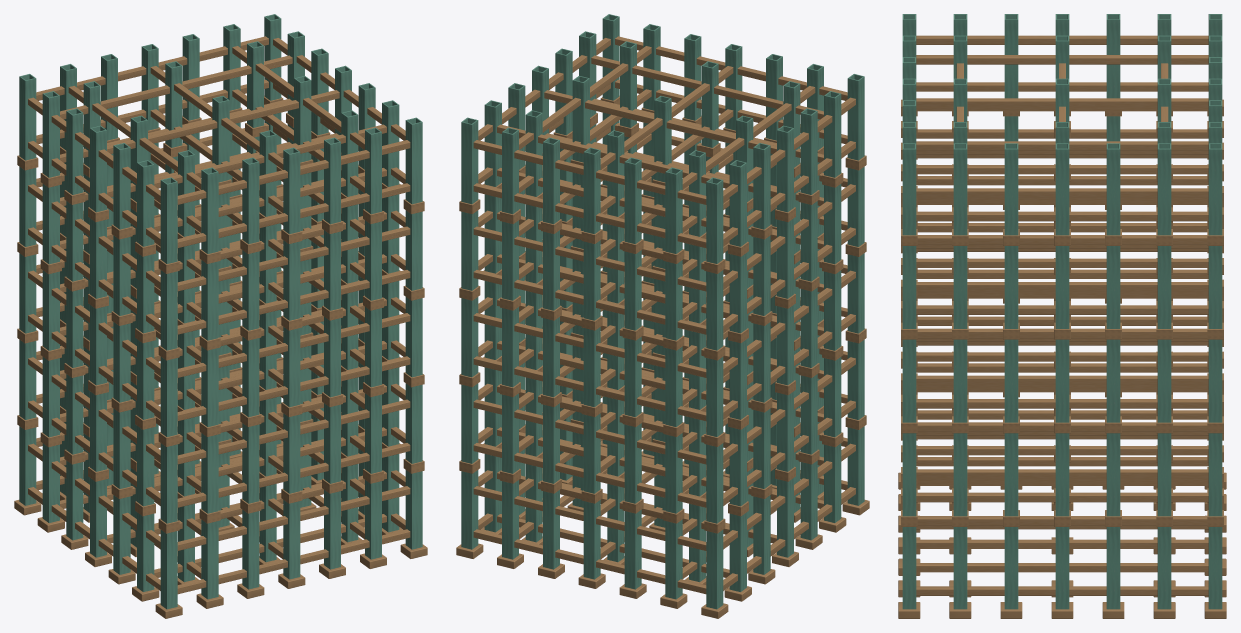
The picture shows the model from 3 angles, left to right: view 1: azimuth 30°, elevation 25°; view 2: azimuth 150°, elevation 25°; view 3: azimuth 270°, elevation 25°; orthographic projection. The views are drawn at different scales.
Visible parts, largest first — view 1: Tier 4 internal tie 0-0.56-0-0.75, Tier 4 internal tie 0-0-0-0.75, Tier 3 tie 0-0-0.75, Tier 1 tie 0-0-0.75, Tier 1 tie 0-0-0.25, Tier 2 tie 0-0-0.25, Tier 3 tie 0-0-0.25, Tier 4 tie 0-0-0.25, Tier 2 tie 0-0-0.75, Tier 0 tie 0-0-0.25, Tier 4 tie 0-0-0.75, Tier 0 tie 0-0-0.75 (+129 smaller); view 2: Tier 4 internal tie 0--0.56-0-0.75, Tier 4 internal tie 0-0-0-0.75, Tier 3 tie 2-0-0.75, Tier 1 tie 2-0-0.75, Tier 1 tie 2-0-0.25, Tier 2 tie 2-0-0.25, Tier 3 tie 2-0-0.25, Tier 4 tie 2-0-0.25, Tier 2 tie 2-0-0.75, Tier 0 tie 2-0-0.25, Tier 4 tie 2-0-0.75, Tier 0 tie 2-0-0.75 (+129 smaller); view 3: Tier 4 internal tie 1--0.56-0-0.75, Tier 4 internal tie 1-0-0-0.75, Tier 1 tie 1-0-0.25, Tier 4 tie 1-0-0.25, Tier 4 internal tie 1-0.56-0-0.75, Tier 0 internal tie 1-0.56-0-0.25, Tier 0 tie 1-0-0.25, Tier 0 tie 1-0-0.75, Tier 1 internal tie 1-0.56-0-0.25, Tier 1 tie 1-0-0.75, Tier 2 internal tie 1-0.56-0-0.25, Tier 2 internal tie 1-0.56-0-0.75 (+81 smaller).
Part boxes in pixels (x1,y1,x2,y2): Tier 4 internal tie 0-0.56-0-0.75: (60,55,292,119); Tier 4 internal tie 0-0-0-0.75: (107,90,339,153); Tier 3 tie 0-0-0.75: (177,226,410,291); Tier 1 tie 0-0-0.75: (177,399,410,464); Tier 1 tie 0-0-0.25: (177,443,410,507); Tier 2 tie 0-0-0.25: (177,356,410,420); Tier 3 tie 0-0-0.25: (177,270,410,334); Tier 4 tie 0-0-0.25: (177,183,410,247); Tier 2 tie 0-0-0.75: (177,313,410,377); Tier 0 tie 0-0-0.25: (177,529,410,594); Tier 4 tie 0-0-0.75: (177,140,410,204); Tier 0 tie 0-0-0.75: (177,486,410,550); Tier 4 internal tie 0--0.56-0-0.75: (591,55,823,119); Tier 4 internal tie 0-0-0-0.75: (544,90,776,153); Tier 3 tie 2-0-0.75: (473,226,706,291); Tier 1 tie 2-0-0.75: (473,399,706,464); Tier 1 tie 2-0-0.25: (473,443,706,507); Tier 2 tie 2-0-0.25: (473,356,706,420); Tier 3 tie 2-0-0.25: (473,270,706,334); Tier 4 tie 2-0-0.25: (473,183,706,247); Tier 2 tie 2-0-0.75: (473,313,706,377); Tier 0 tie 2-0-0.25: (473,529,706,594); Tier 4 tie 2-0-0.75: (473,140,706,204); Tier 0 tie 2-0-0.75: (473,486,706,550); Tier 4 internal tie 1--0.56-0-0.75: (916,55,1208,64); Tier 4 internal tie 1-0-0-0.75: (916,98,1208,107); Tier 1 tie 1-0-0.25: (916,492,1208,502); Tier 4 tie 1-0-0.25: (916,211,1208,221); Tier 4 internal tie 1-0.56-0-0.75: (916,141,1208,150); Tier 0 internal tie 1-0.56-0-0.25: (916,563,1208,572); Tier 0 tie 1-0-0.25: (916,586,1208,595); Tier 0 tie 1-0-0.75: (916,539,1208,548); Tier 1 internal tie 1-0.56-0-0.25: (916,469,1208,478); Tier 1 tie 1-0-0.75: (916,446,1208,455); Tier 2 internal tie 1-0.56-0-0.25: (916,375,1208,384); Tier 2 internal tie 1-0.56-0-0.75: (917,328,1207,338).
Bounding box in the file's own units: 1.8 × 2.83 × 1.8.
Materials: 2 (2 with a texture image).
